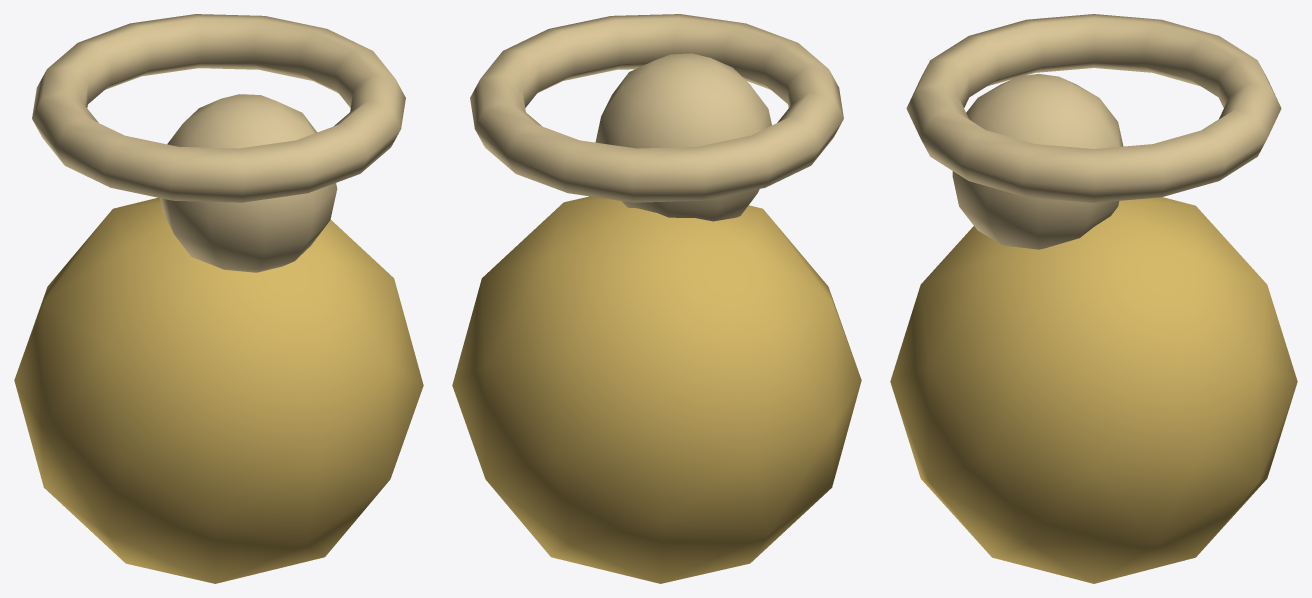
The model's file is star_monster_3.glb.
The picture shows the model from 3 angles, left to right: view 1: azimuth 30°, elevation 25°; view 2: azimuth 150°, elevation 25°; view 3: azimuth 270°, elevation 25°; orthographic projection.
Parts seen in each view (by area): view 1: CoreBody, MOTIF_star_halo, Head; view 2: CoreBody, MOTIF_star_halo, Head; view 3: CoreBody, MOTIF_star_halo, Head.
Boxes of the visible parts, left/top/right/bottom form: CoreBody: left=14, top=197, right=423, bottom=583; MOTIF_star_halo: left=32, top=14, right=405, bottom=202; Head: left=160, top=94, right=337, bottom=272; CoreBody: left=452, top=196, right=861, bottom=583; MOTIF_star_halo: left=470, top=14, right=843, bottom=202; Head: left=595, top=53, right=771, bottom=221; CoreBody: left=890, top=197, right=1297, bottom=583; MOTIF_star_halo: left=906, top=14, right=1281, bottom=202; Head: left=952, top=73, right=1123, bottom=249.
Size of the model in its own units: 1.32 by 1.74 by 1.32.
